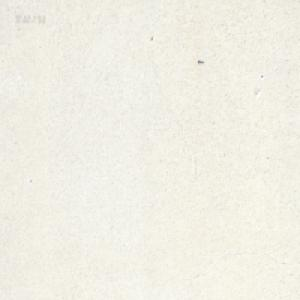Nail: (197, 58, 204, 64)
